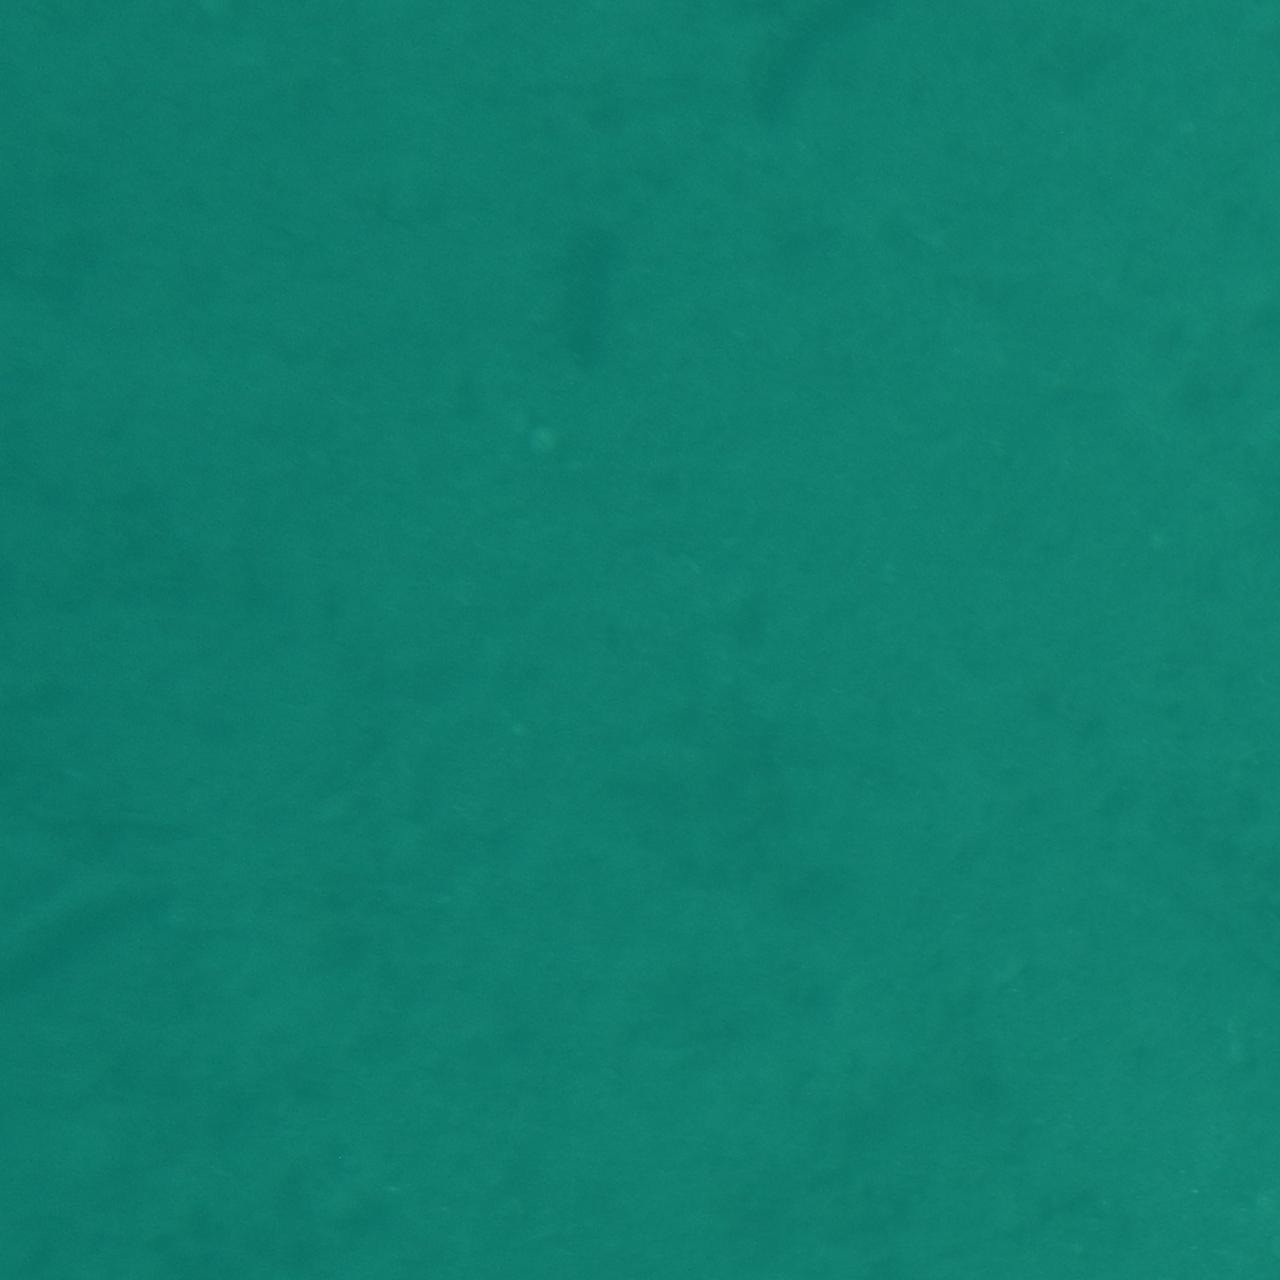Holothuria tubulosa: (0, 857, 245, 1026), (726, 0, 919, 169), (535, 213, 647, 399), (1017, 0, 1280, 74), (440, 1173, 600, 1280)
